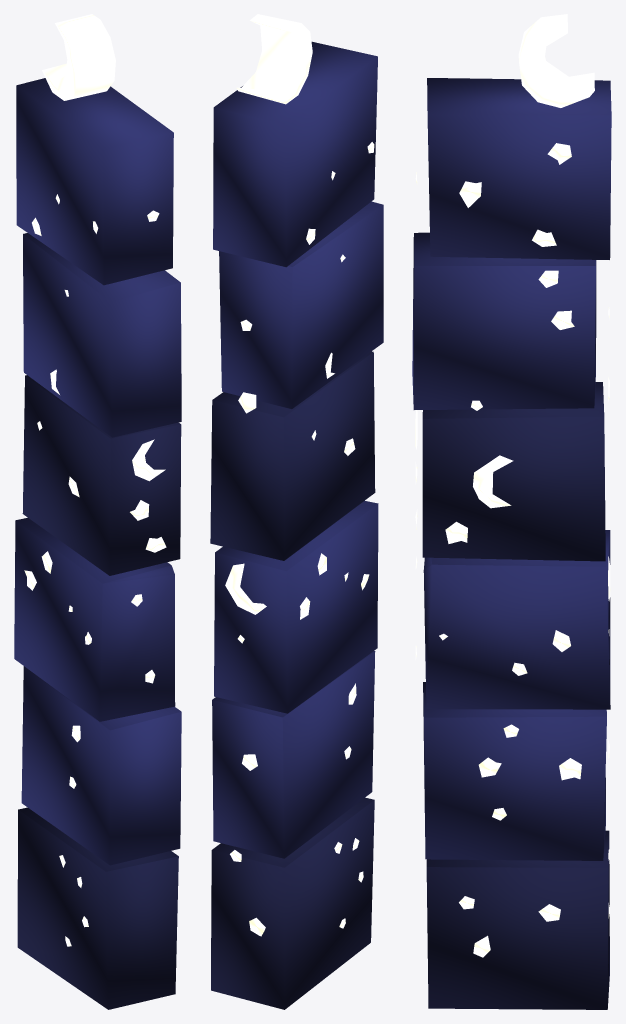
Rendered from den_night_tower_lod2.glb.
3 views of the same model, side by side, from view 1: azimuth 30°, elevation 25°; view 2: azimuth 150°, elevation 25°; view 3: azimuth 270°, elevation 25° (orthographic). The views are drawn at different scales.
Parts seen in each view (by area): view 1: den_night_tower.001; view 2: den_night_tower.001; view 3: den_night_tower.001.
Part boxes in pixels (x1=…): den_night_tower.001: x1=14, y1=14, x2=181, y2=1009; den_night_tower.001: x1=210, y1=14, x2=383, y2=1009; den_night_tower.001: x1=412, y1=14, x2=611, y2=1009.
Bounding box in the file's own units: 2.5 × 27.96 × 5.22.
